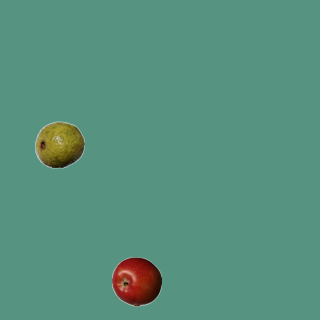Apple Braeburn: (111, 256, 161, 306)
Guava: (34, 119, 84, 169)
